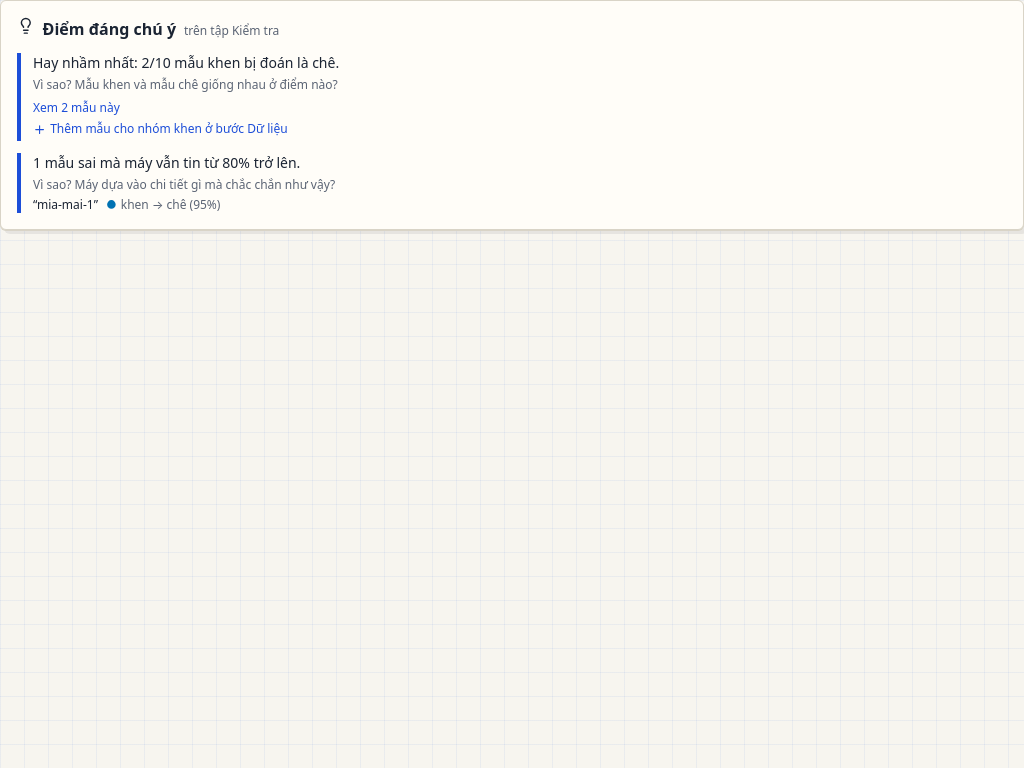
Test case: Điểm đáng chú ý ở Studio âm thanh, tư thế, văn bản, bảng số › cặp nhóm hay nhầm: bằng chứng thu gọn sẵn, mở ra xem được; nút thêm mẫu cuộn về bước Dữ liệu
Later steps or results of the test are not shown.
Expected: the list item with test id "finding-top-confusion" shows "Hay nhầm nhất: 2/10 mẫu khen bị đoán là chê.", 33,53 -> 339,72
Expected: the list item with test id "finding-top-confusion" shows "Vì sao? Mẫu khen và mẫu chê giống nhau ở điểm nào?", 17,53 -> 1007,141
Click the button "Xem 2 mẫu này".
click(76, 108)  # box 33,100 -> 120,116
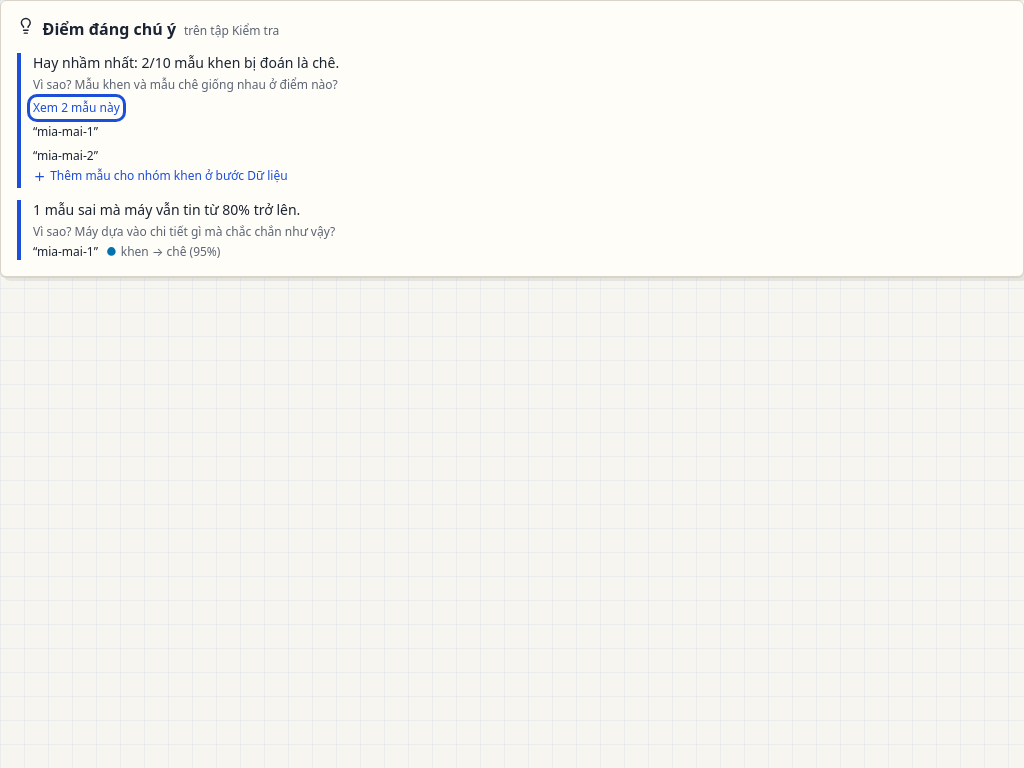
Expected: the list with test id "finding-evidence" shows "mia-mai-1", 37,123 -> 94,140
